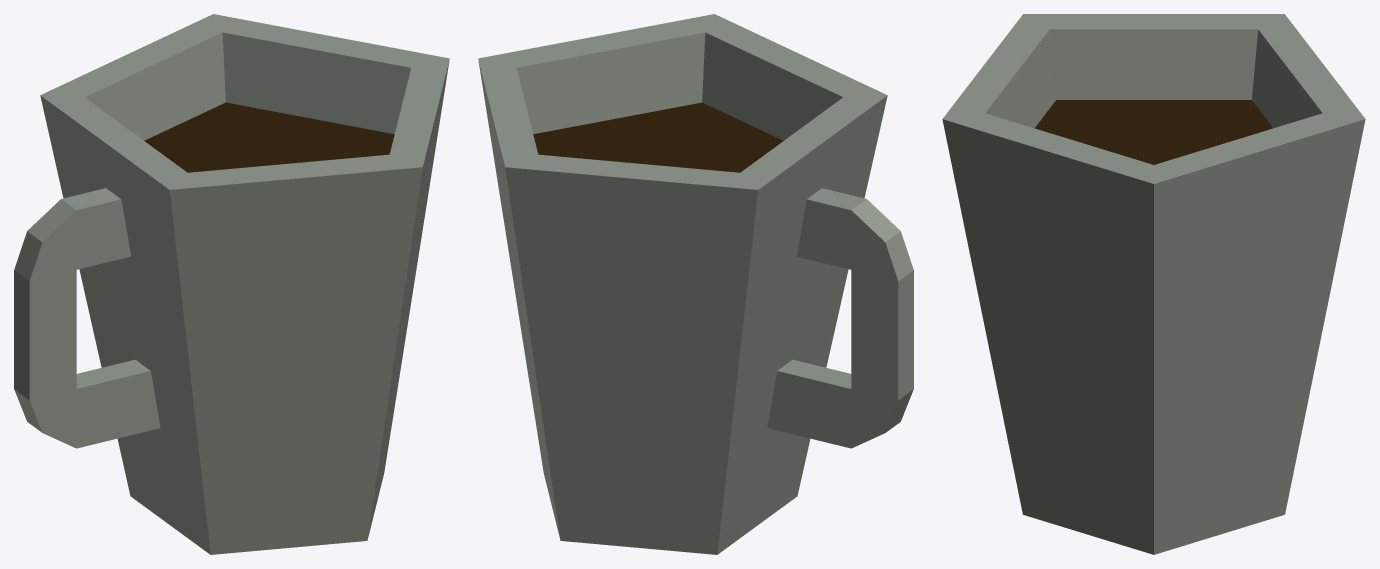
Rendered from cup_full_handle_2.fbx.
3 views of the same model, side by side, from view 1: azimuth 30°, elevation 25°; view 2: azimuth 150°, elevation 25°; view 3: azimuth 270°, elevation 25° (orthographic).
Parts seen in each view (by area): view 1: cup_full_handle_2; view 2: cup_full_handle_2; view 3: cup_full_handle_2.
Boxes of the visible parts, x1=… form: cup_full_handle_2: x1=14, y1=14, x2=449, y2=554; cup_full_handle_2: x1=478, y1=14, x2=913, y2=554; cup_full_handle_2: x1=942, y1=14, x2=1365, y2=554.
Size of the model in its own units: 0.7502 by 0.6685 by 0.6358.
